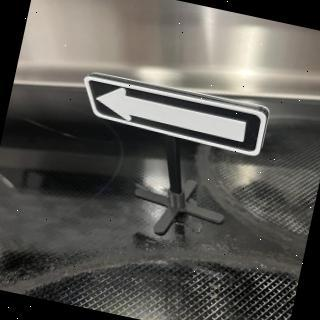sign_oneway_left: (76, 70, 271, 159)
